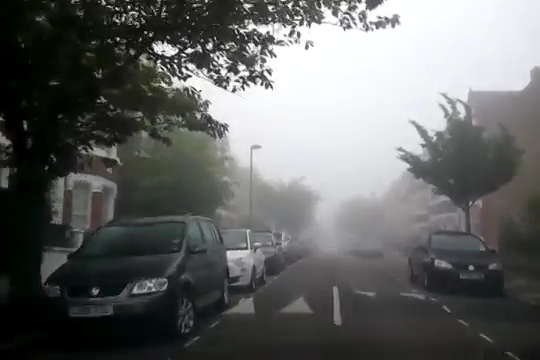car: (35, 213, 230, 341), (407, 227, 507, 295), (187, 225, 269, 293), (234, 229, 287, 277)
